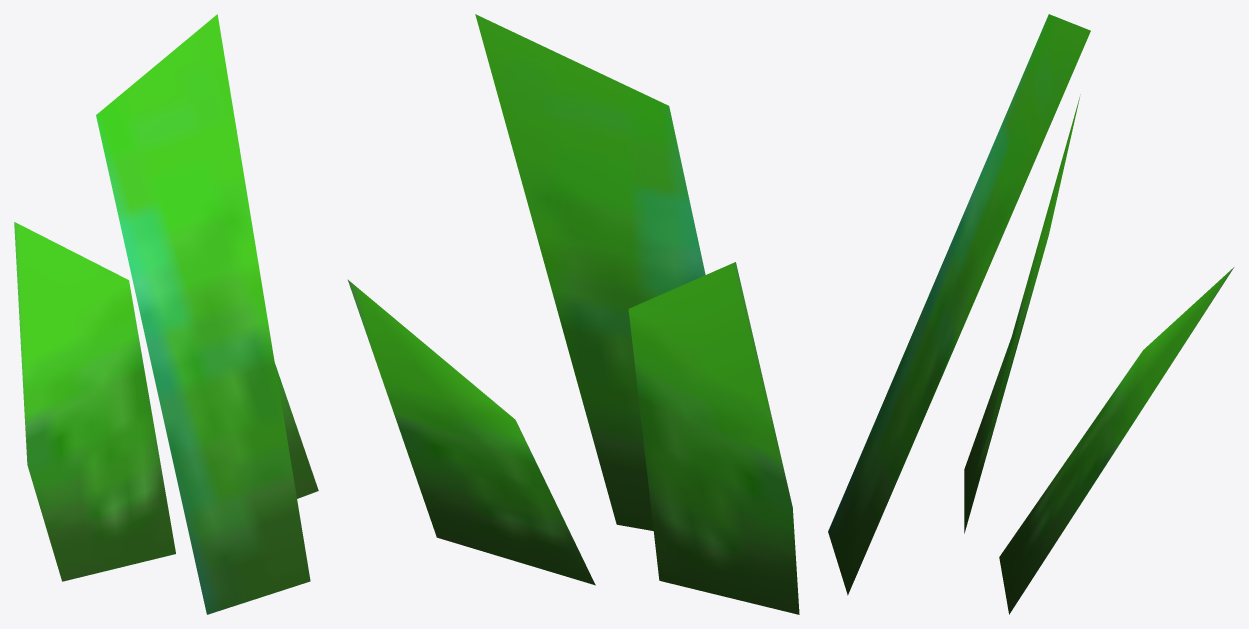
The model's file is fg_grassB.dae.
3 renders of one model, left to right at view 1: azimuth 30°, elevation 25°; view 2: azimuth 150°, elevation 25°; view 3: azimuth 270°, elevation 25°, orthographic. The views are drawn at different scales.
Visible parts, largest first — view 1: fg_grassB; view 2: fg_grassB; view 3: fg_grassB.
Boxes of the visible parts, box(x1,y1,x2,y2) form: fg_grassB: box(14, 14, 318, 614); fg_grassB: box(347, 14, 799, 614); fg_grassB: box(828, 14, 1234, 614).
Bounding box in the file's own units: 13.26 × 21.31 × 13.76.
Materials: 1 (1 with a texture image).
